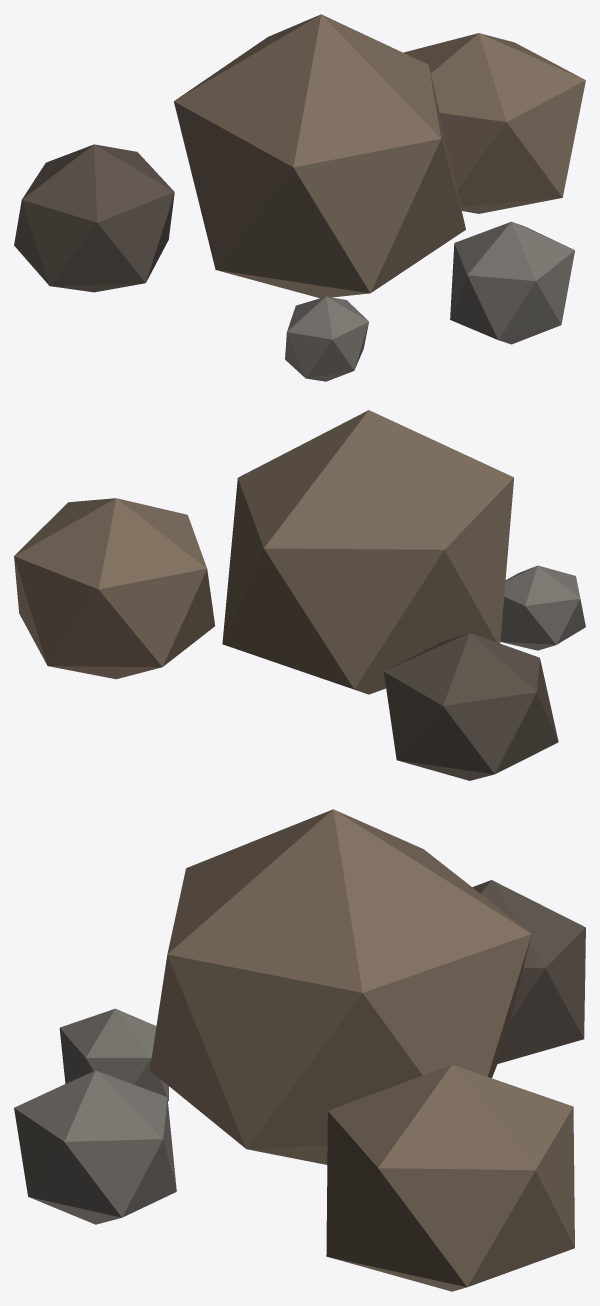
The model's file is mine_boulders.glb.
The picture shows the model from 3 angles, top to bottom: view 1: azimuth 30°, elevation 25°; view 2: azimuth 150°, elevation 25°; view 3: azimuth 270°, elevation 25°; orthographic projection. The views are drawn at different scales.
Visible parts, largest first — view 1: mine_boulders; view 2: mine_boulders; view 3: mine_boulders.
Part boxes in pixels (x1,y1,x2,y2): mine_boulders: [14, 14, 585, 381]; mine_boulders: [14, 410, 585, 780]; mine_boulders: [14, 809, 585, 1291].
Size of the model in its own units: 1.94 by 0.9945 by 1.44.
